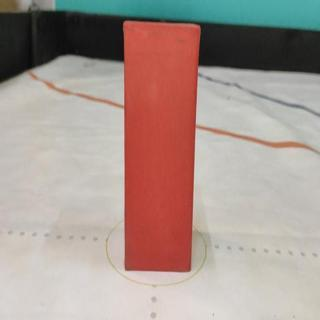redbox: (123, 19, 201, 274)
